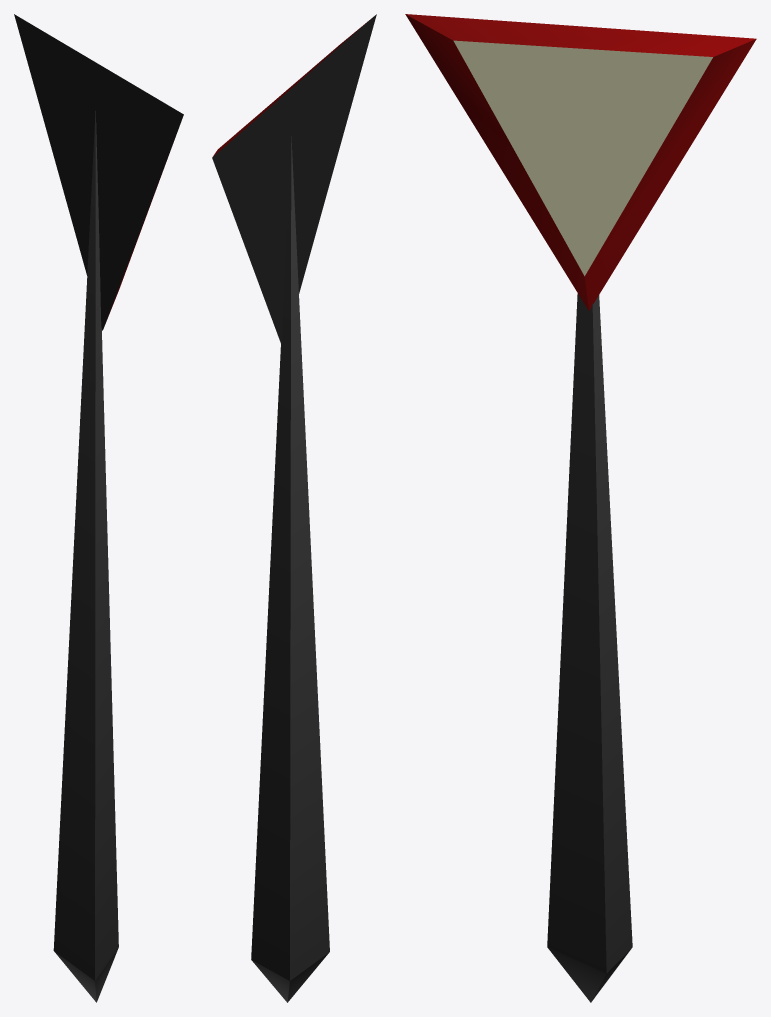
The model's file is c_street_sign_aa.fbx.
The picture shows the model from 3 angles, left to right: view 1: azimuth 30°, elevation 25°; view 2: azimuth 150°, elevation 25°; view 3: azimuth 270°, elevation 25°; orthographic projection. The views are drawn at different scales.
Parts seen in each view (by area): view 1: c_street_sign_aa; view 2: c_street_sign_aa; view 3: c_street_sign_aa.
Boxes of the visible parts, x1=… form: c_street_sign_aa: x1=14, y1=14, x2=183, y2=1002; c_street_sign_aa: x1=212, y1=14, x2=376, y2=1002; c_street_sign_aa: x1=405, y1=14, x2=756, y2=1002.
Bounding box in the file's own units: 0.1892 × 3.28 × 1.06.
